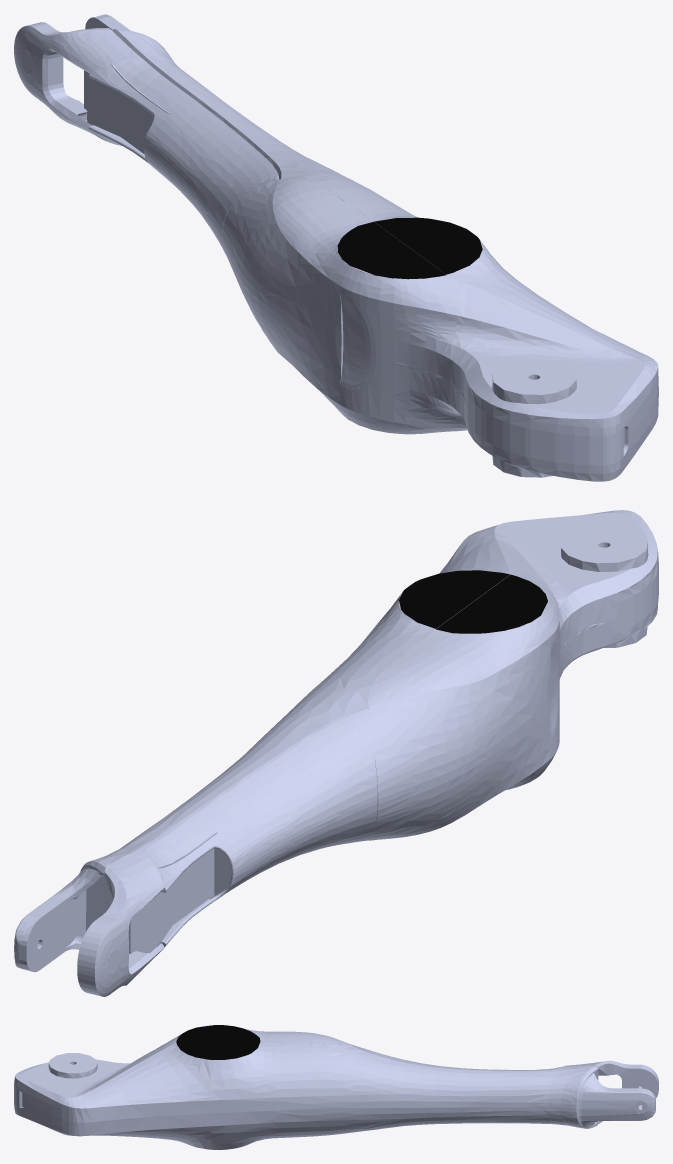
File: right_knee_link.dae
3 views of the same model, one above another, from view 1: azimuth 30°, elevation 25°; view 2: azimuth 150°, elevation 25°; view 3: azimuth 270°, elevation 25° (orthographic). The views are drawn at different scales.
Parts seen in each view (by area): view 1: right_knee_link; view 2: right_knee_link; view 3: right_knee_link.
Boxes of the visible parts, x1,y1,x2,y2 form: right_knee_link: [14, 14, 658, 481]; right_knee_link: [14, 510, 658, 996]; right_knee_link: [14, 1025, 658, 1149].
Size of the model in its own units: 0.1188 by 0.0867 by 0.564.
